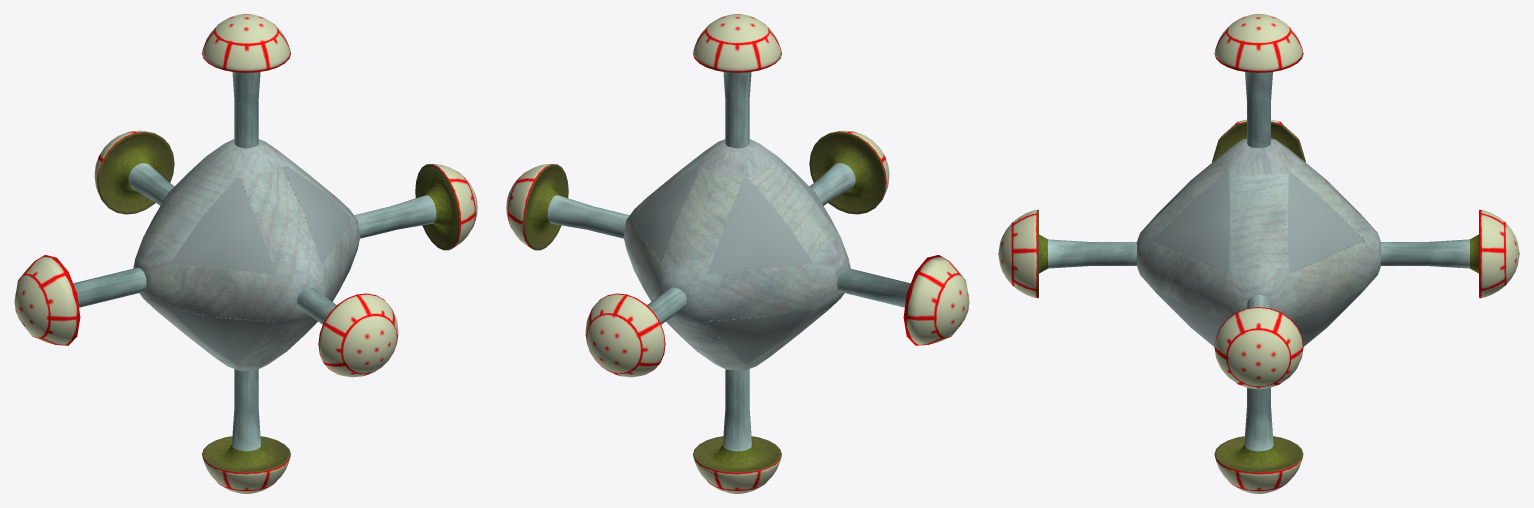
File: radar_1.fbx
The picture shows the model from 3 angles, left to right: view 1: azimuth 30°, elevation 25°; view 2: azimuth 150°, elevation 25°; view 3: azimuth 270°, elevation 25°; orthographic projection.
Parts seen in each view (by area): view 1: Cube, Sphere_004, Sphere, Sphere_003, Sphere_005, Sphere_001, Sphere_002; view 2: Cube, Sphere_004, Sphere_002, Sphere_003, Sphere_005, Sphere_001, Sphere; view 3: Cube, Sphere_005, Sphere_003, Sphere_002, Sphere, Sphere_001, Sphere_004.
Boxes of the visible parts, x1,y1,x2,y2 form: Cube: [133, 139, 360, 371]; Sphere_004: [14, 255, 146, 345]; Sphere: [297, 287, 398, 377]; Sphere_003: [202, 14, 290, 148]; Sphere_005: [344, 164, 477, 250]; Sphere_001: [202, 355, 290, 493]; Sphere_002: [94, 130, 174, 214]; Cube: [623, 139, 850, 371]; Sphere_004: [837, 255, 969, 345]; Sphere_002: [585, 287, 686, 377]; Sphere_003: [693, 14, 781, 148]; Sphere_005: [506, 164, 637, 250]; Sphere_001: [693, 354, 781, 493]; Sphere: [809, 130, 889, 214]; Cube: [1136, 138, 1381, 346]; Sphere_005: [1214, 295, 1303, 389]; Sphere_003: [1214, 14, 1303, 147]; Sphere_002: [1381, 209, 1519, 298]; Sphere: [998, 209, 1136, 298]; Sphere_001: [1214, 388, 1303, 493]; Sphere_004: [1212, 119, 1305, 162].
Bounding box in the file's own units: 11.12 × 11.11 × 11.11.
Materials: 4 (4 with a texture image).
